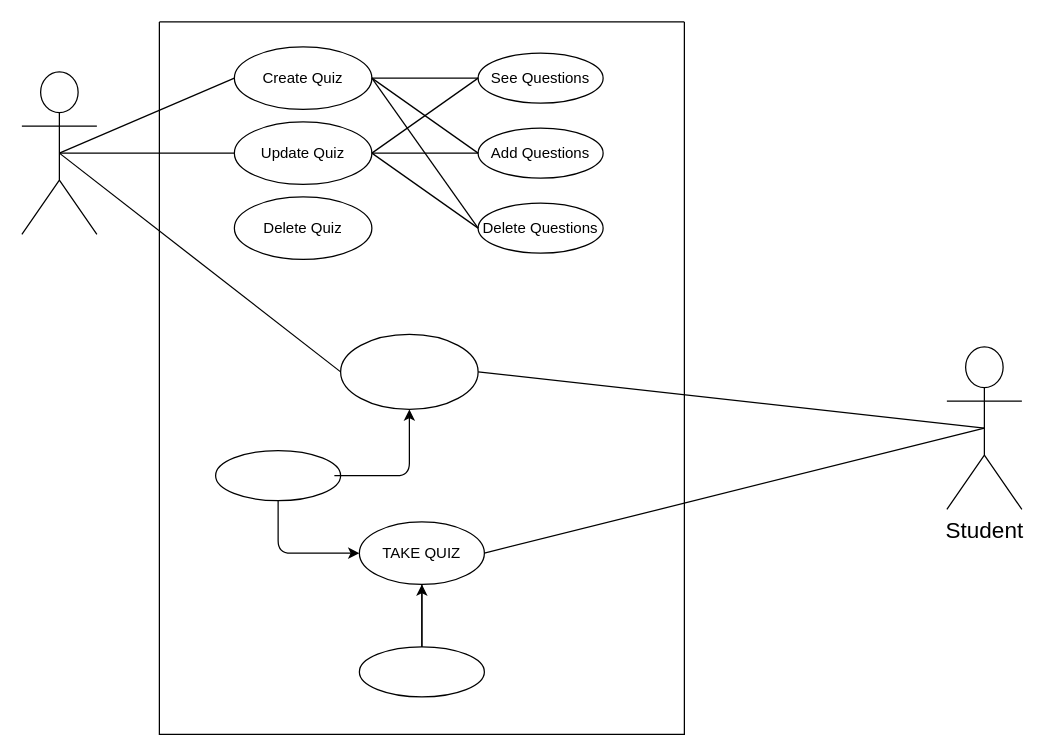
The diagram is 1045 pixels wide and 756 high, and some of its shapes have lost their labels. Here are the shapes that lost their labels. From the top down, the centre of each, then its label:
At point (59, 152): "Admin".
At point (408, 371): "Student Results".
At point (277, 475): "Subject".
At point (421, 671): "Student Details".
